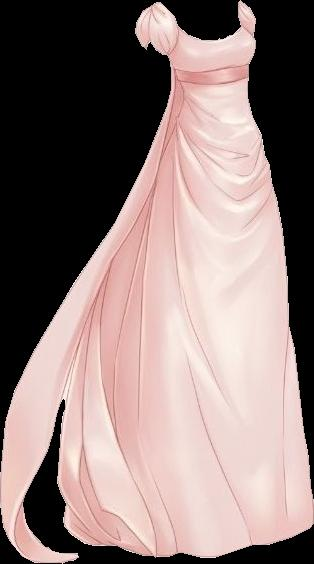Bodice: (166, 25, 255, 86)
Hemline: (15, 395, 313, 560)
Neckline: (176, 24, 244, 43)
Skirt: (0, 74, 313, 562)
Sleeve: (135, 2, 177, 55)
Waistline: (170, 74, 247, 90)
